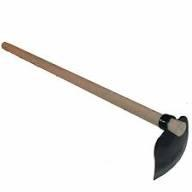HOUE: (0, 39, 189, 192)
